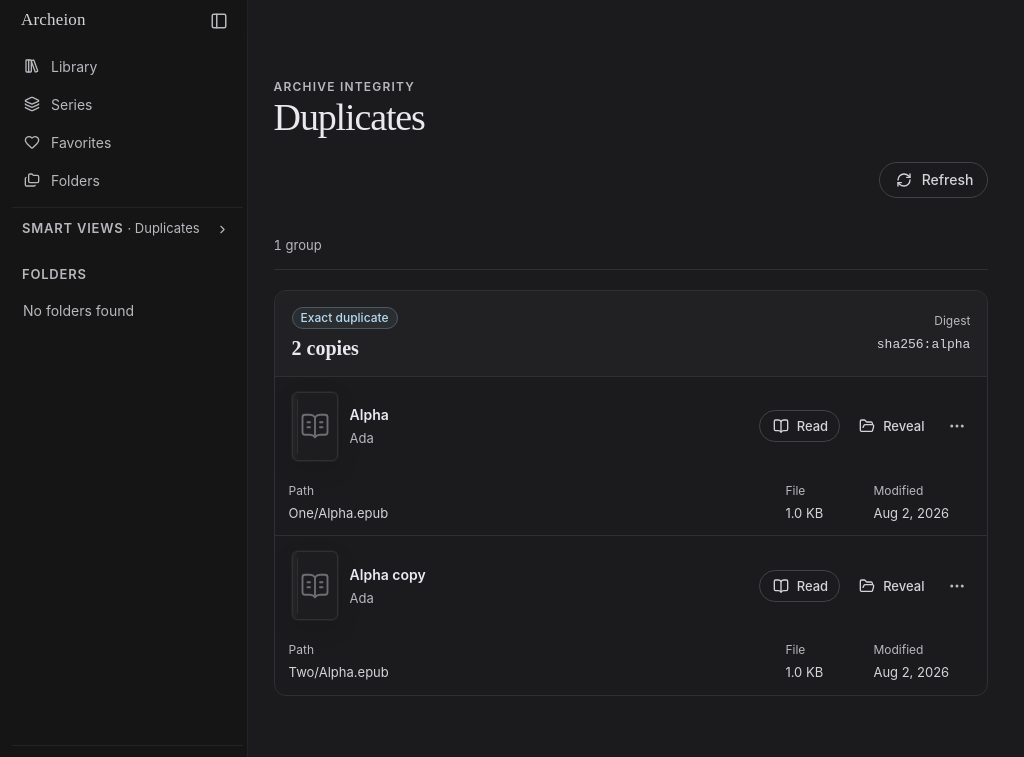
Test: LibraryPage duplicate review integration › refreshes through the integrity controller and publishes the current grouping
Click the button "Refresh" at x=934, y=180, box x1=879 y1=162 x2=988 y2=198
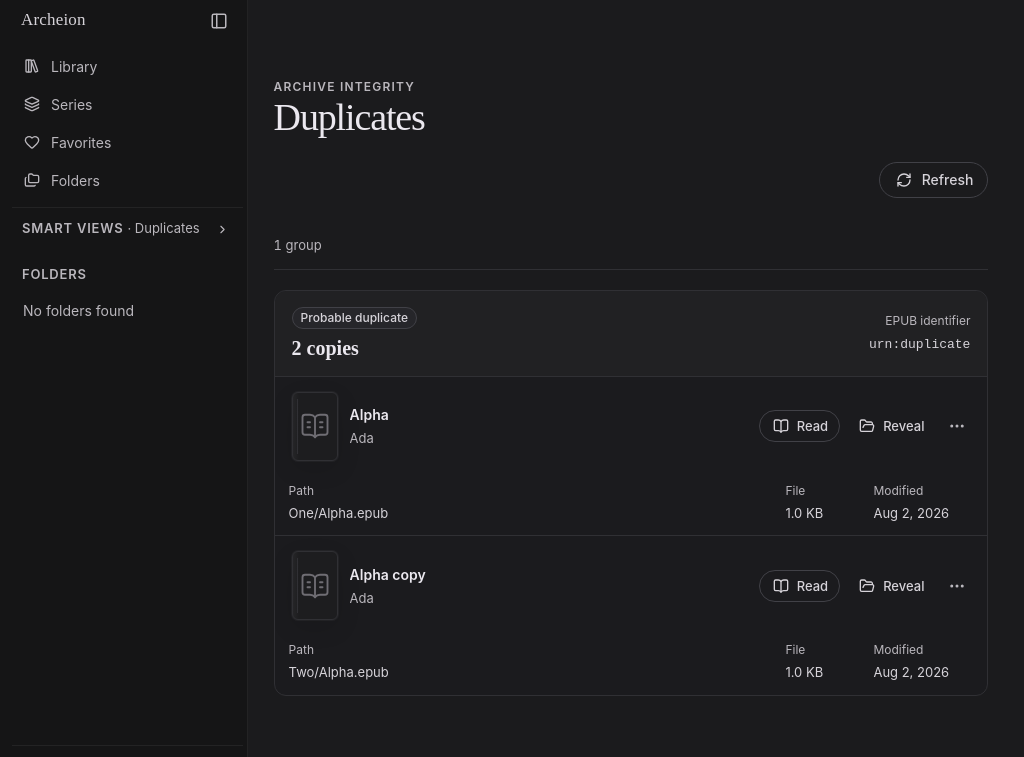
Expected: the element that starts with "Probable duplicate" is shown, x1=274 y1=290 x2=988 y2=696
Result: the text "EPUB identifier" is shown at x1=885 y1=313 x2=970 y2=328
